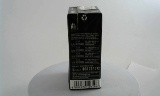appy: (61, 4, 96, 91)
